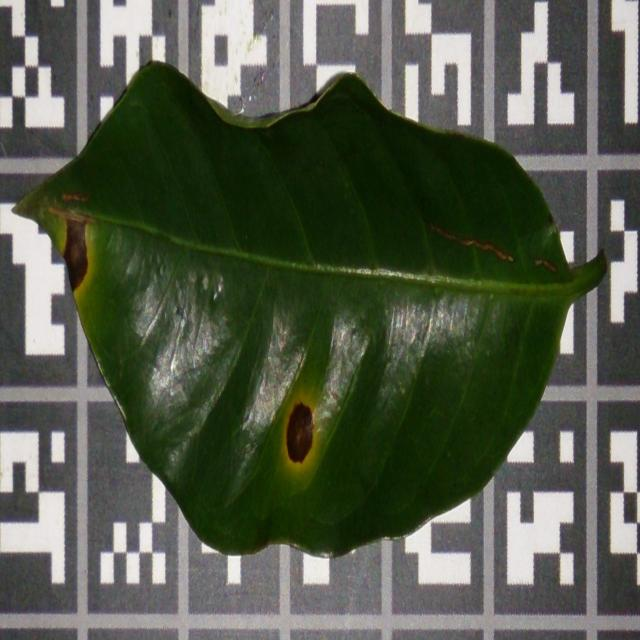Enfermedad-Mancha-de-hierro: (13, 62, 610, 561)
